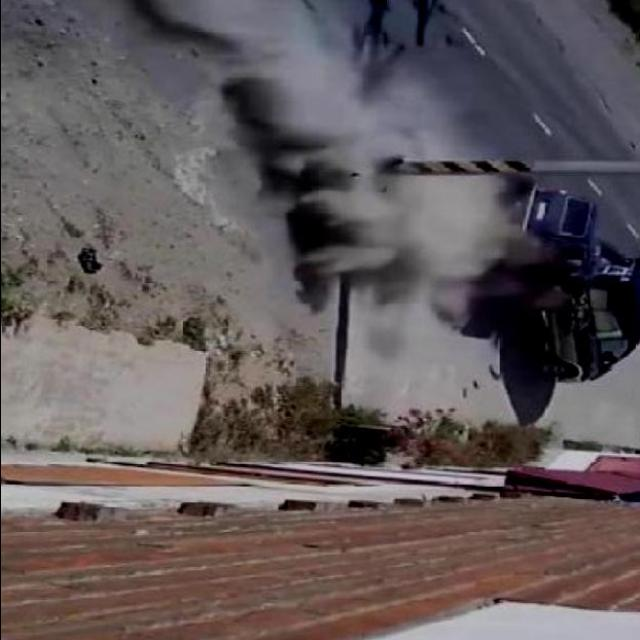accident: (480, 176, 640, 392)
